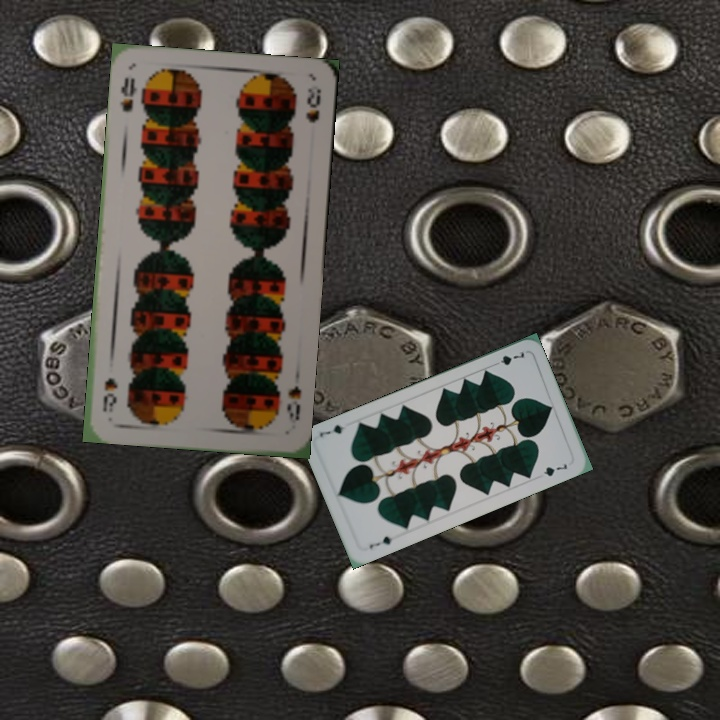G7: (488, 347, 527, 369), (365, 532, 395, 551)
S8: (283, 381, 304, 431), (116, 73, 140, 115)
